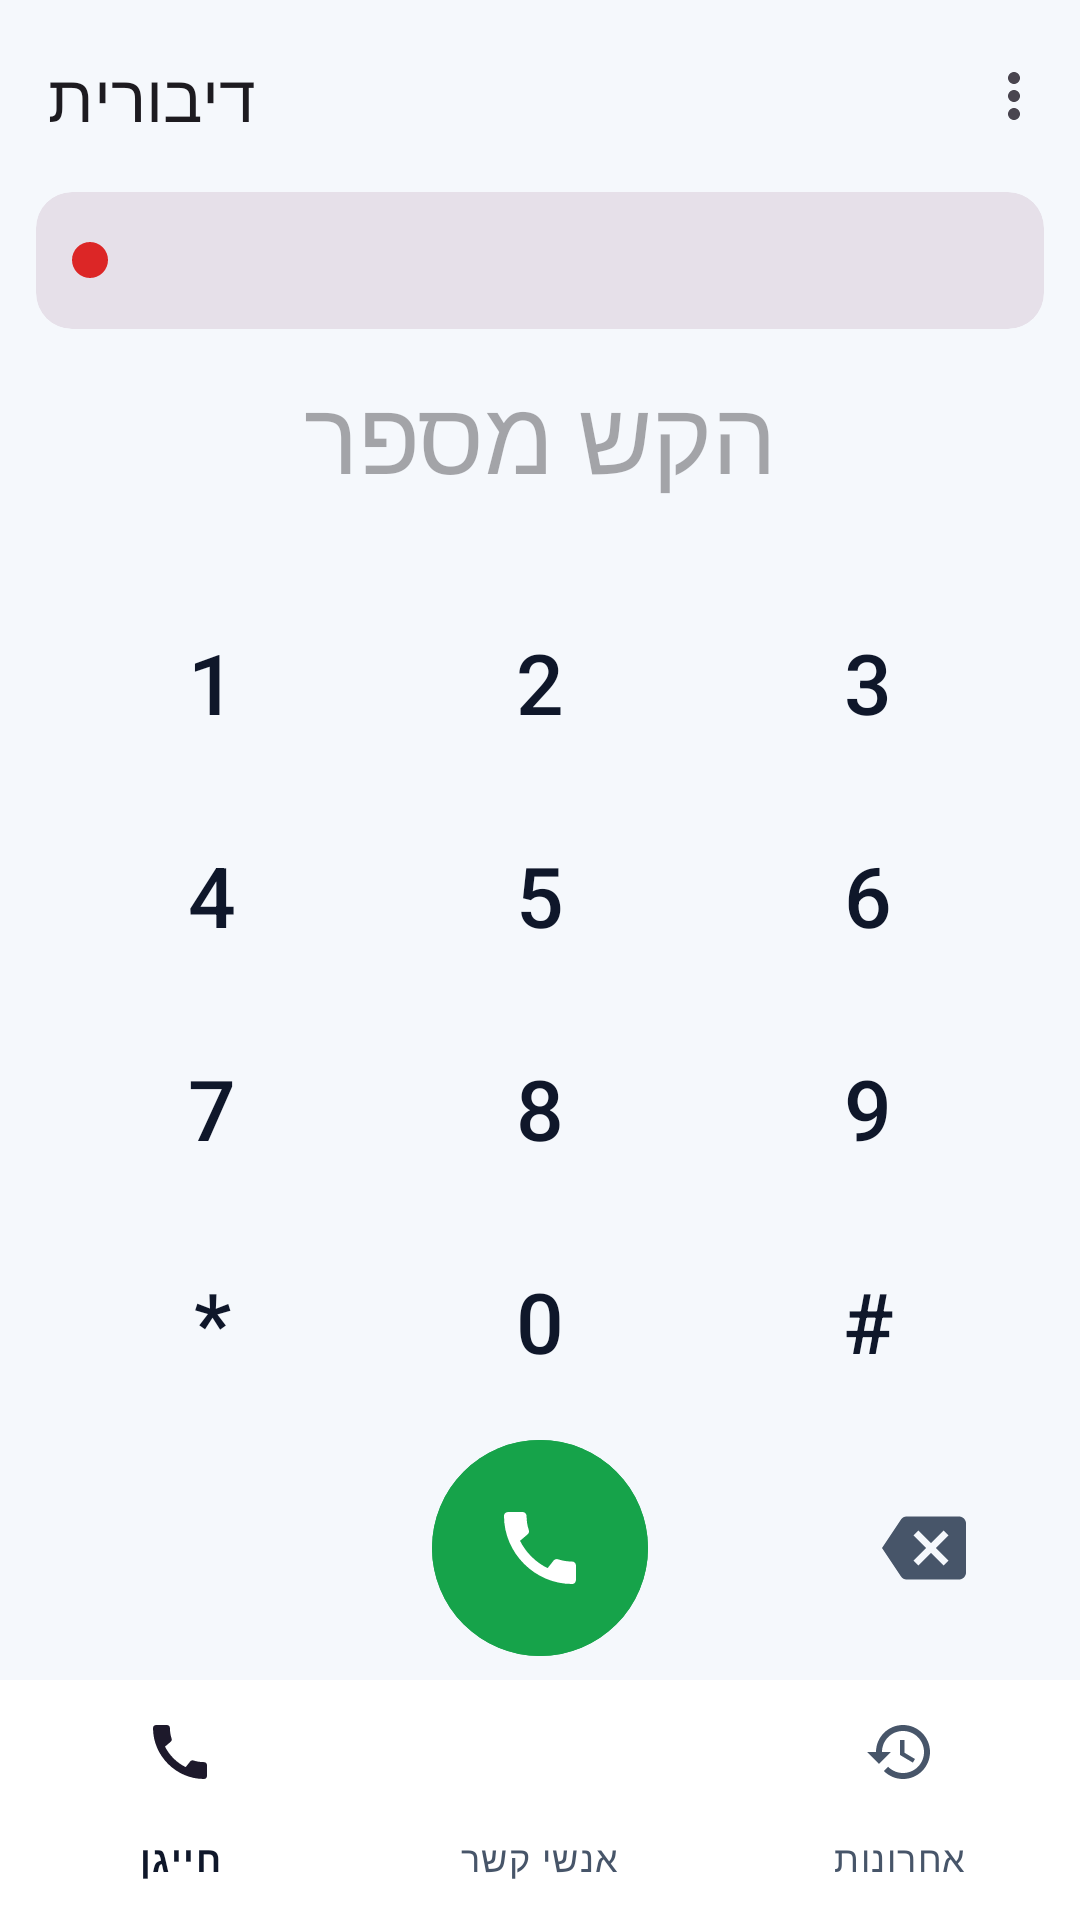

Where to tap for icons on this 1080*1920 app screen, as (x,y):
חייג: (540,1548)
מחק: (924,1548)
